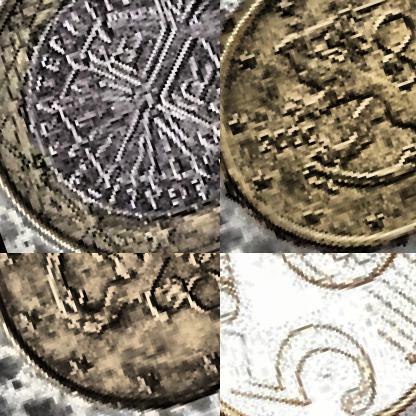coin: (0, 0, 219, 252), (220, 0, 415, 252), (0, 253, 219, 415), (220, 253, 415, 415)
